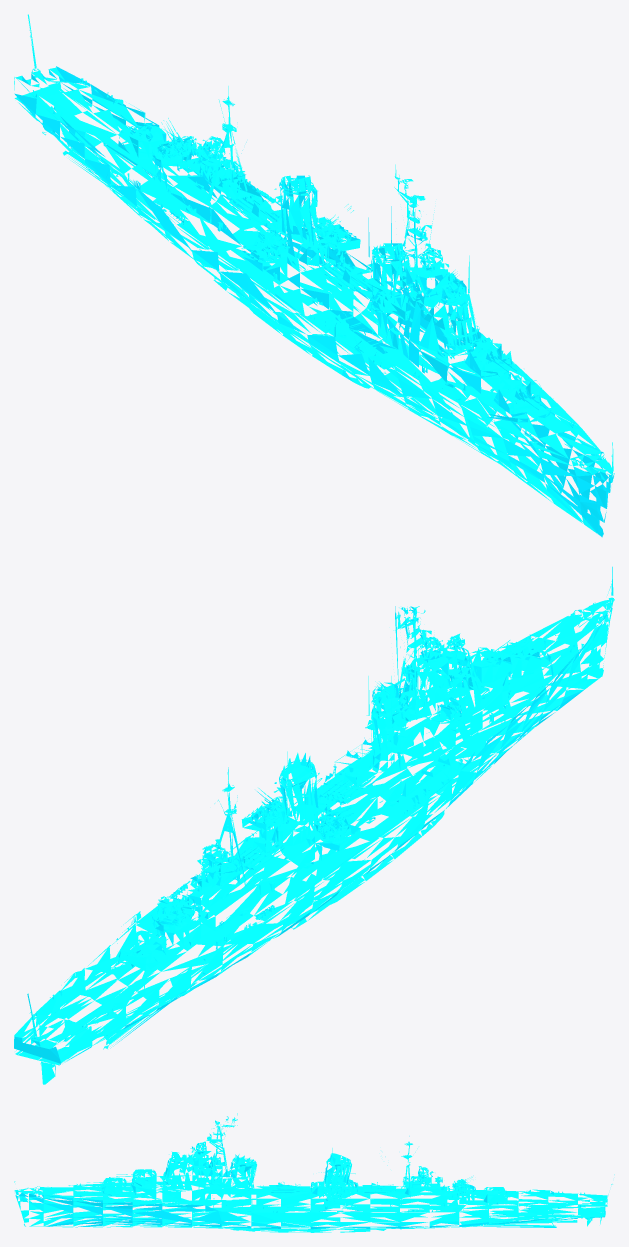
File: Delny.glb
3 renders of one model, top to bottom at view 1: azimuth 30°, elevation 25°; view 2: azimuth 150°, elevation 25°; view 3: azimuth 270°, elevation 25°, orthographic. The views are drawn at different scales.
Size of the model in its own units: 0.963 by 1.98 by 9.45.
